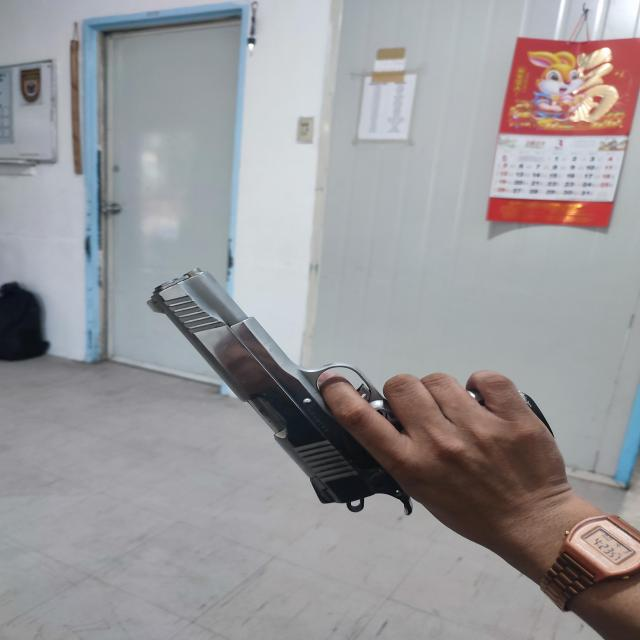pistol: (146, 268, 424, 516)
